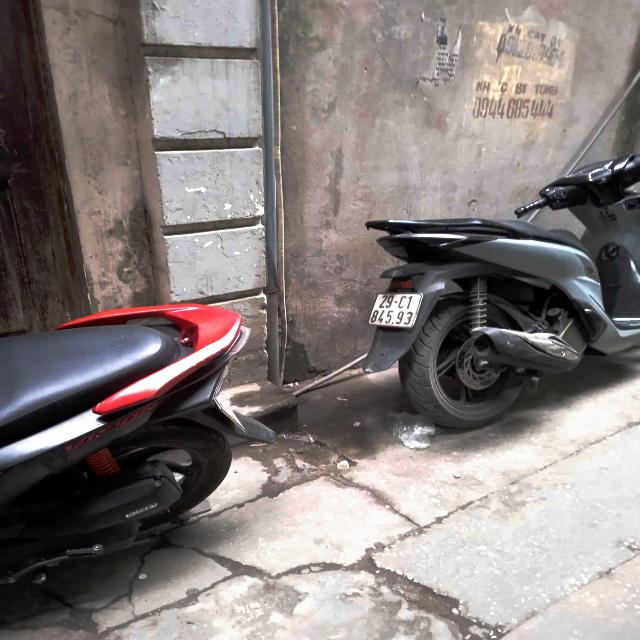license_plate: (367, 293, 427, 328)
